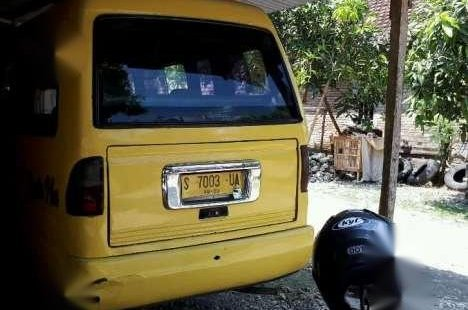plate: (183, 169, 248, 202)
